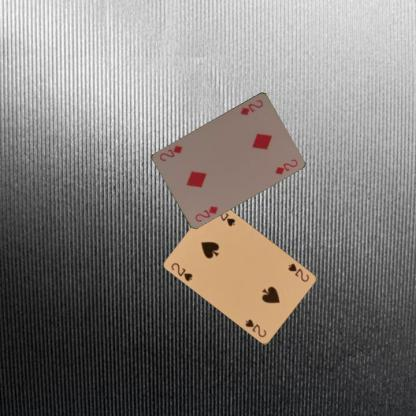2d: (192, 203, 220, 223), (238, 97, 264, 116)
2s: (169, 260, 194, 283), (286, 261, 310, 283)
